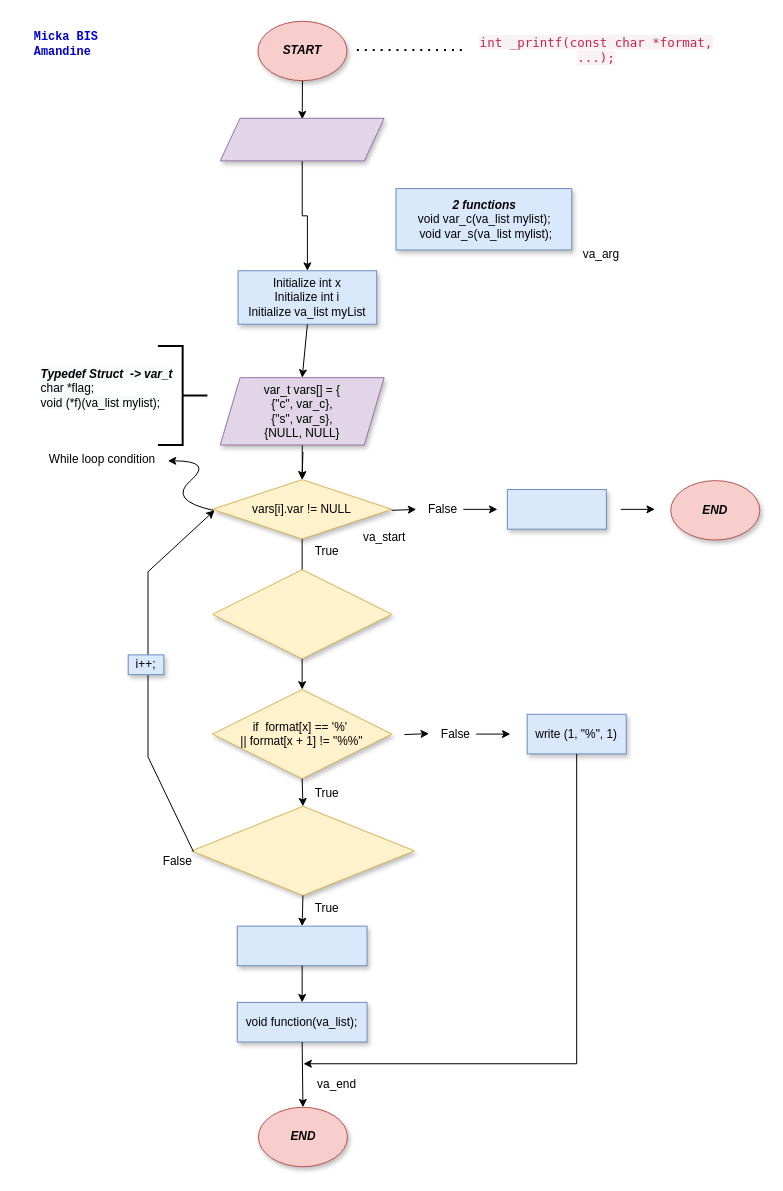
Some shapes in this 783 by 1191 pixel diagram are drawn without their labels. The centre of each missing label's shape, as x and y in pixels:
"for (x = 0; format[x] != '\0'; x++)" belongs at (x=303, y=615).
"if format[x + 1] == *vars[i].var" belongs at (x=303, y=851).
"Input const char *format ... variadic" belongs at (x=302, y=140).
"return (NULL);" belongs at (x=557, y=510).
"vars[i].f" belongs at (x=302, y=947).
